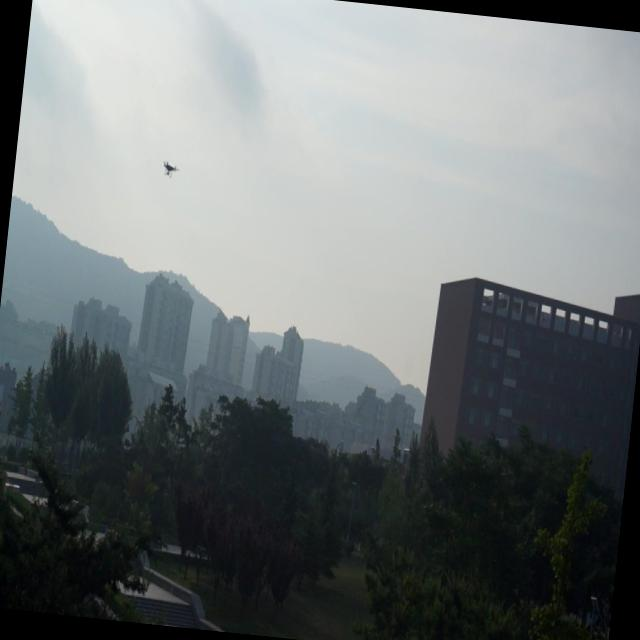drone: (159, 154, 181, 182)
